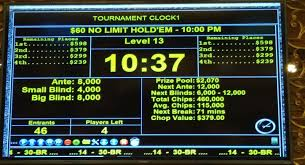PlayersLeft: (69, 116, 142, 136)
Remaining: (197, 34, 277, 78), (12, 36, 92, 78)
TournamentClock: (10, 25, 280, 137)
